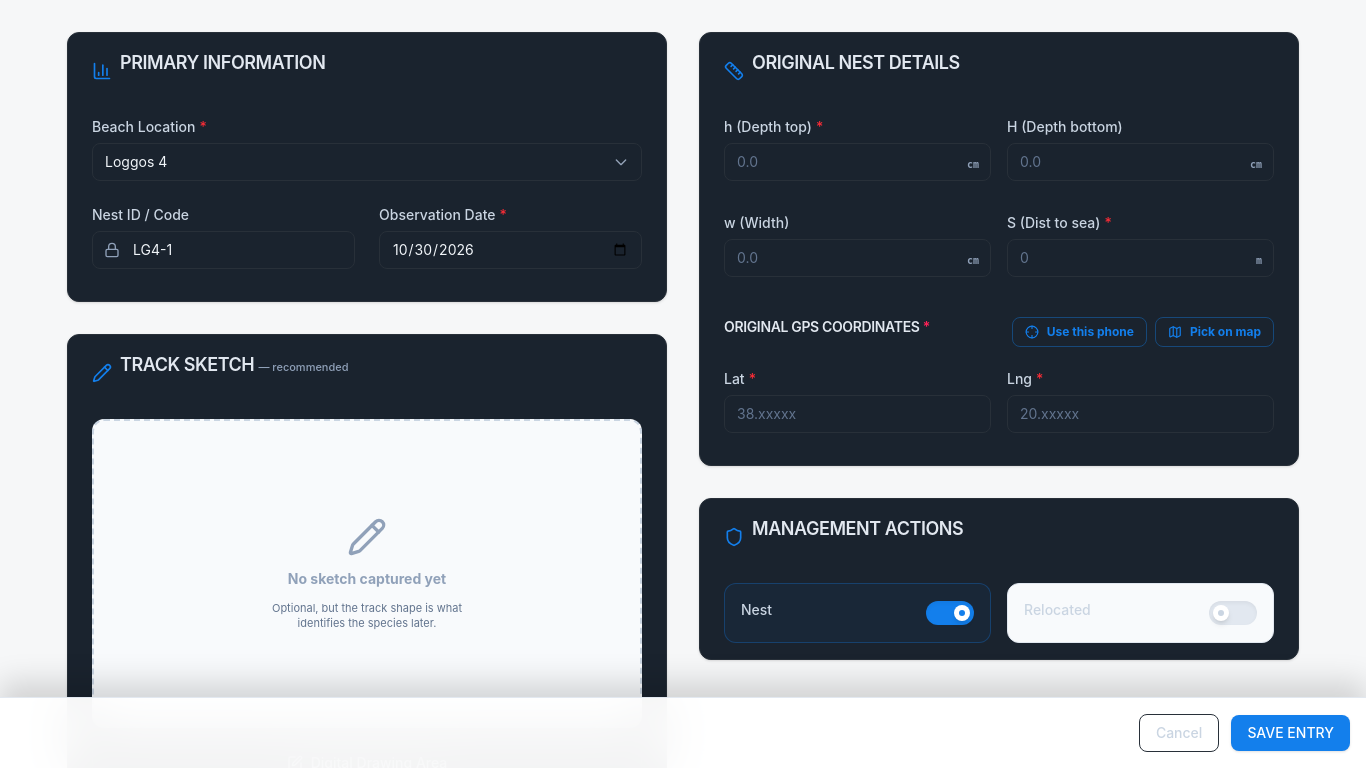
NestEntry: all validation errors shown at once (QA-156) › lists every failing check, not just the first, when the form is left blank
Click the button "SAVE ENTRY" at (1291, 733), box top-left (1231, 715), bottom-right (1350, 751)
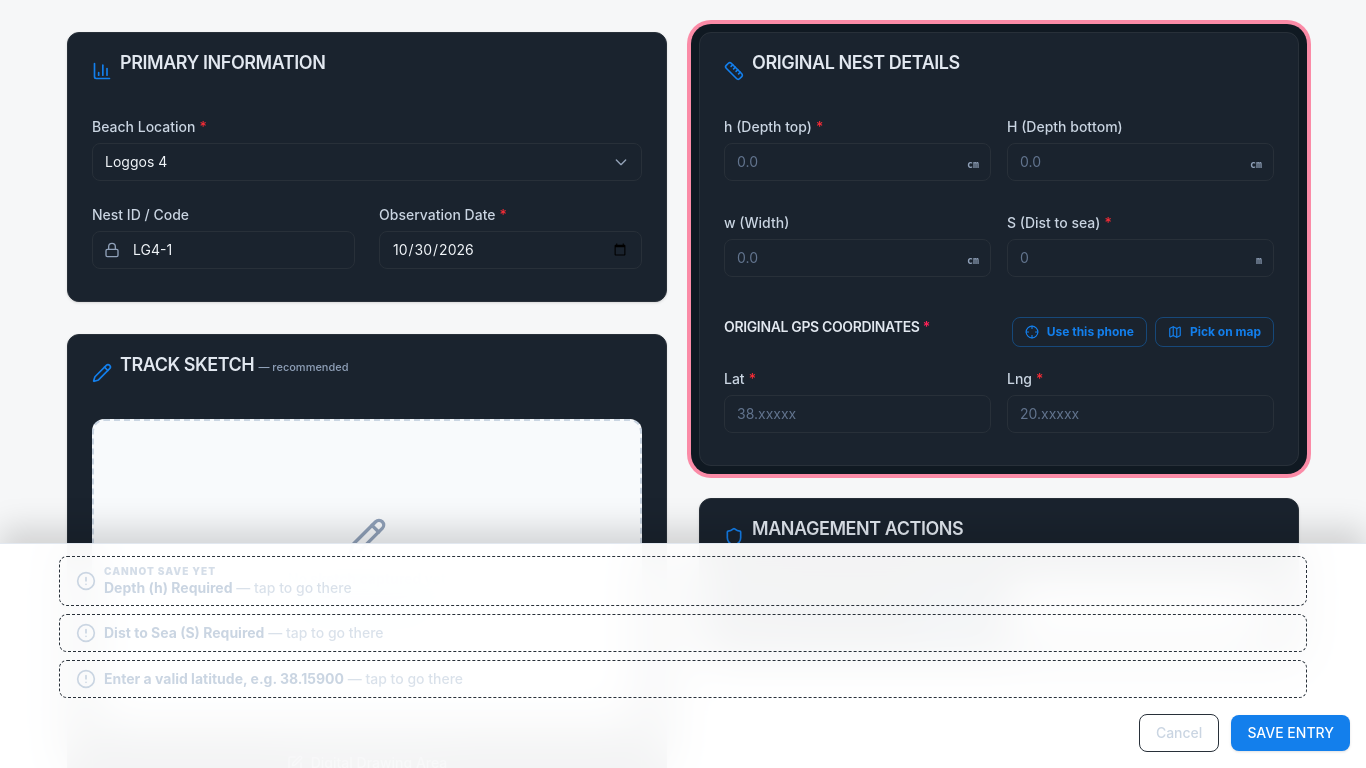
Now the text "Depth (h) Required — tap to go there" is shown, box top-left (104, 578), bottom-right (352, 597)
Now the text "Dist to Sea (S) Required — tap to go there" is shown, box top-left (104, 623), bottom-right (384, 643)
